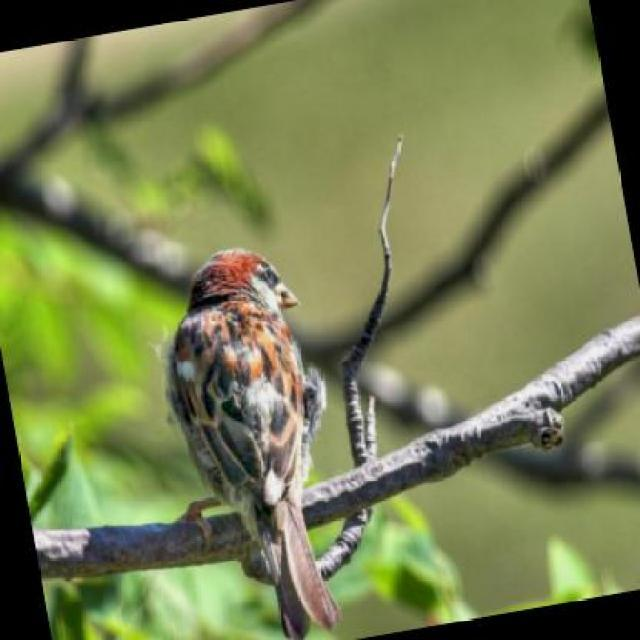Bird: (164, 245, 352, 640)
